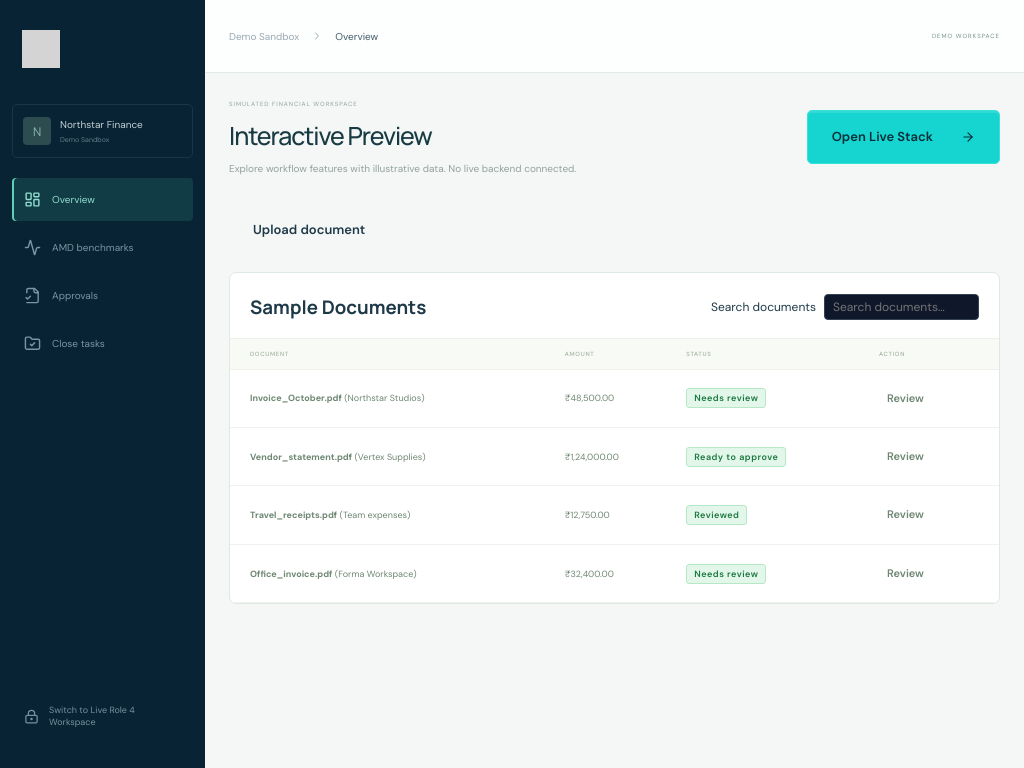
Accessibility Standards and Controls › Status updates use aria-live or role="status" / role="alert"
Trigger a toast notification
What coordinates should you click on to do the following:
click the button with aria-label "Review Invoice_October.pdf"
I would click on:
 (905, 398)
Its box is [879,387,932,410].
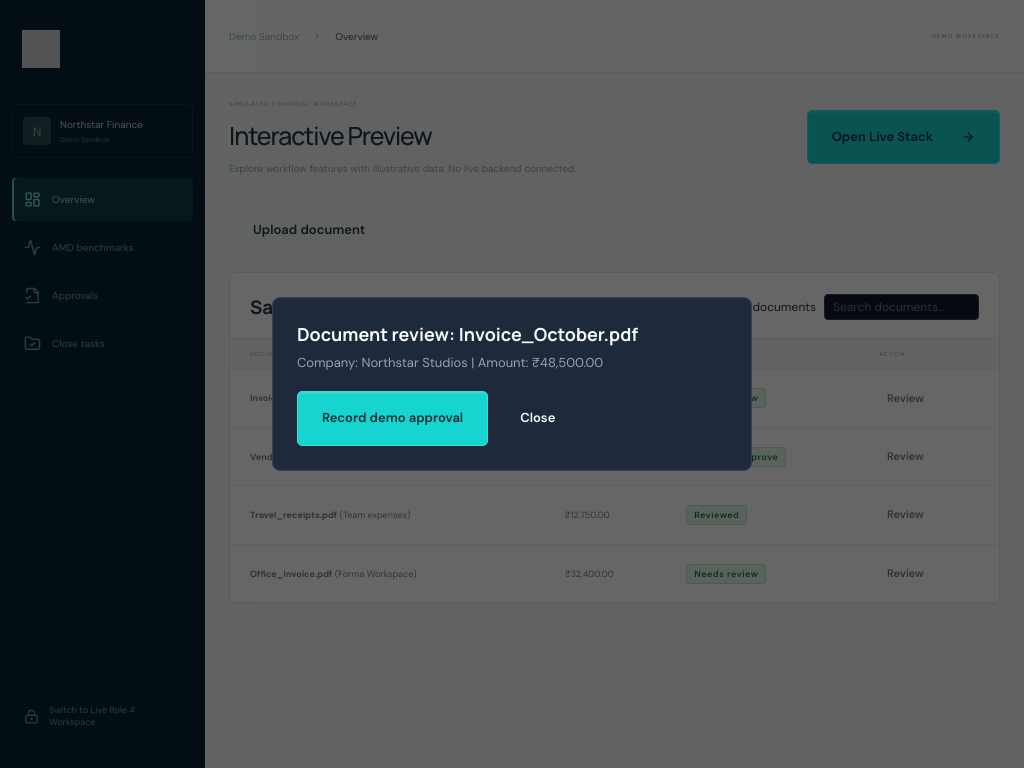
What coordinates should you click on to do the following:
click the button "Record demo approval"
I would click on:
 (393, 418)
Its box is [297,391,488,446].
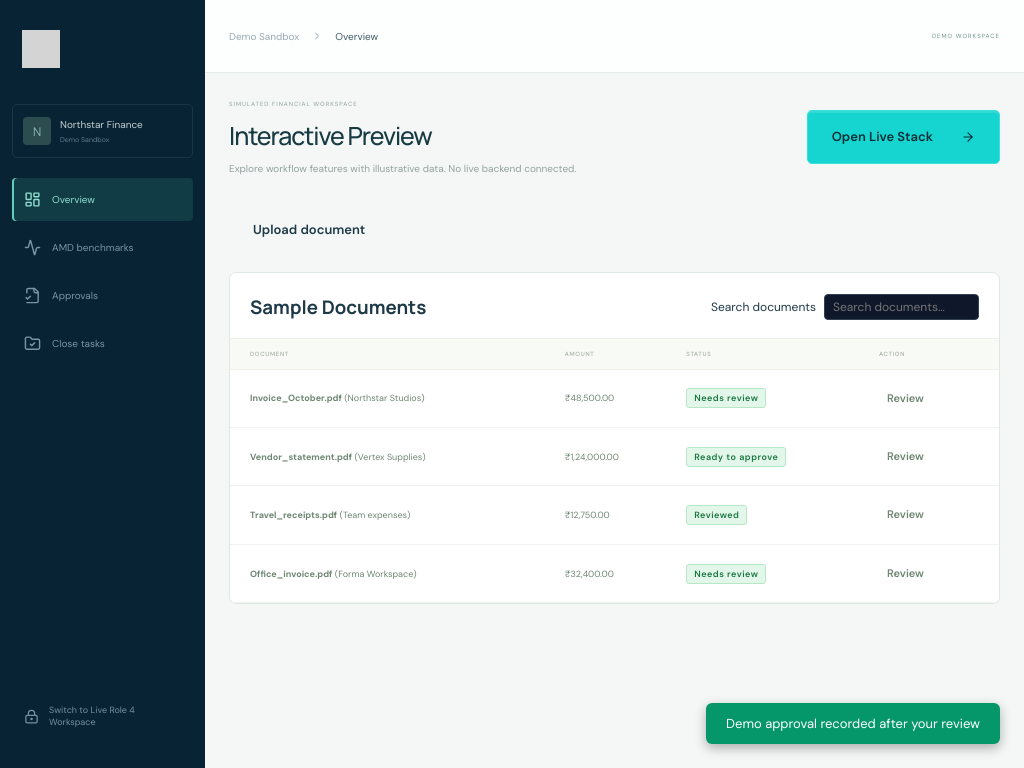
Now the message "Demo approval recorded after your review" is shown, box [706,703,1000,744]
Now the message reads "Demo approval recorded after your review", box [726,715,980,732]
